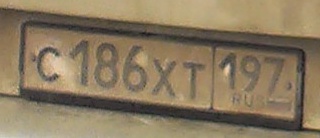character: (92, 41, 121, 92), (122, 43, 150, 94), (68, 36, 91, 88), (151, 58, 177, 100), (35, 45, 62, 85), (261, 53, 284, 98), (215, 51, 239, 94), (238, 52, 260, 94), (183, 60, 205, 101)
